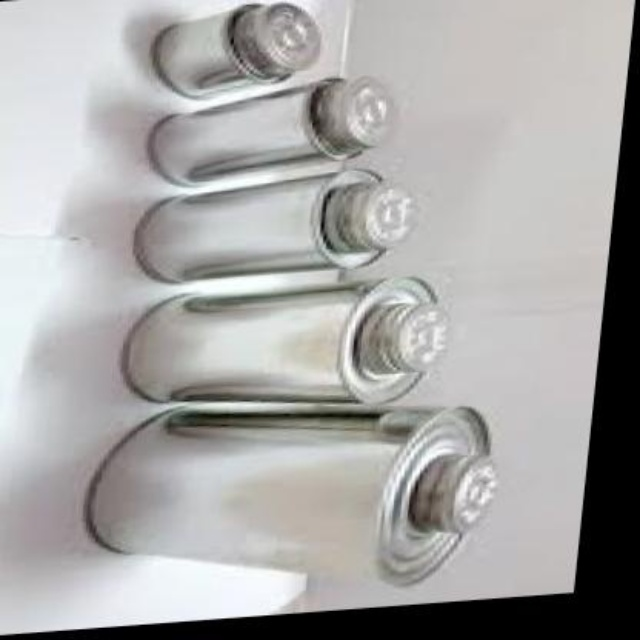trash: (85, 408, 494, 583), (123, 277, 446, 403), (134, 171, 415, 282), (148, 77, 392, 185), (151, 3, 320, 97)
